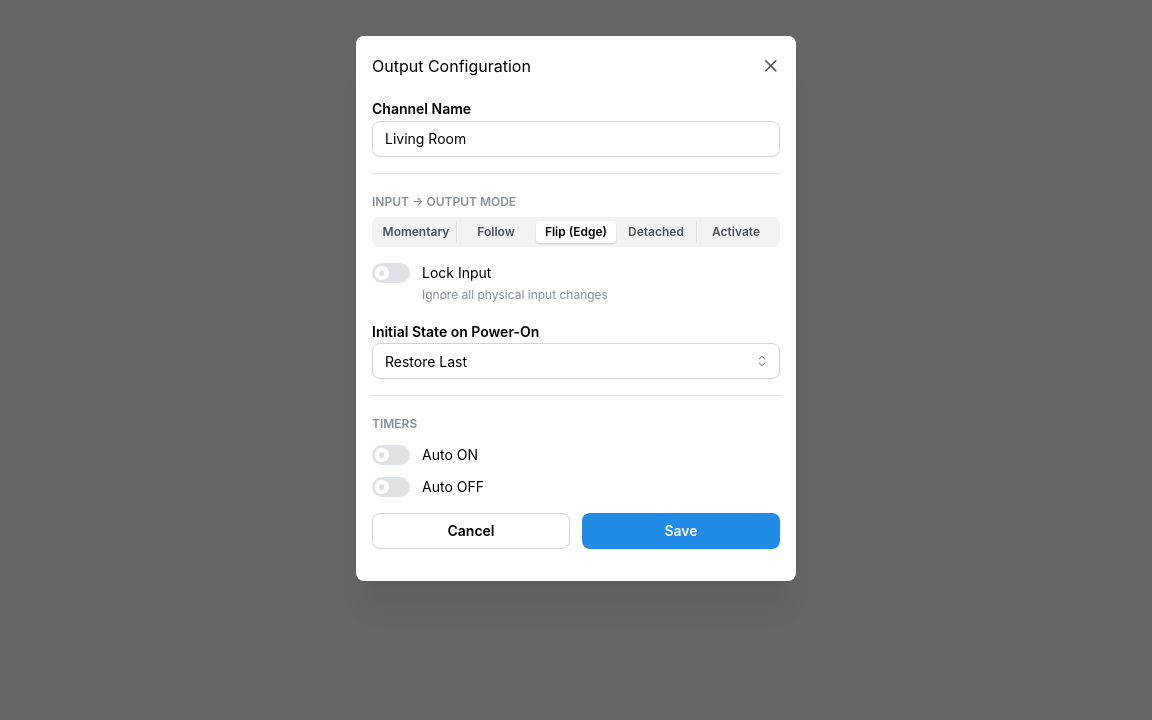
Test: SwitchConfigPanel › shows yellow restart alert when mutation returns restart_required: true
Step 1. Click the button "Save" → x=681, y=531, box [582, 513, 780, 549]
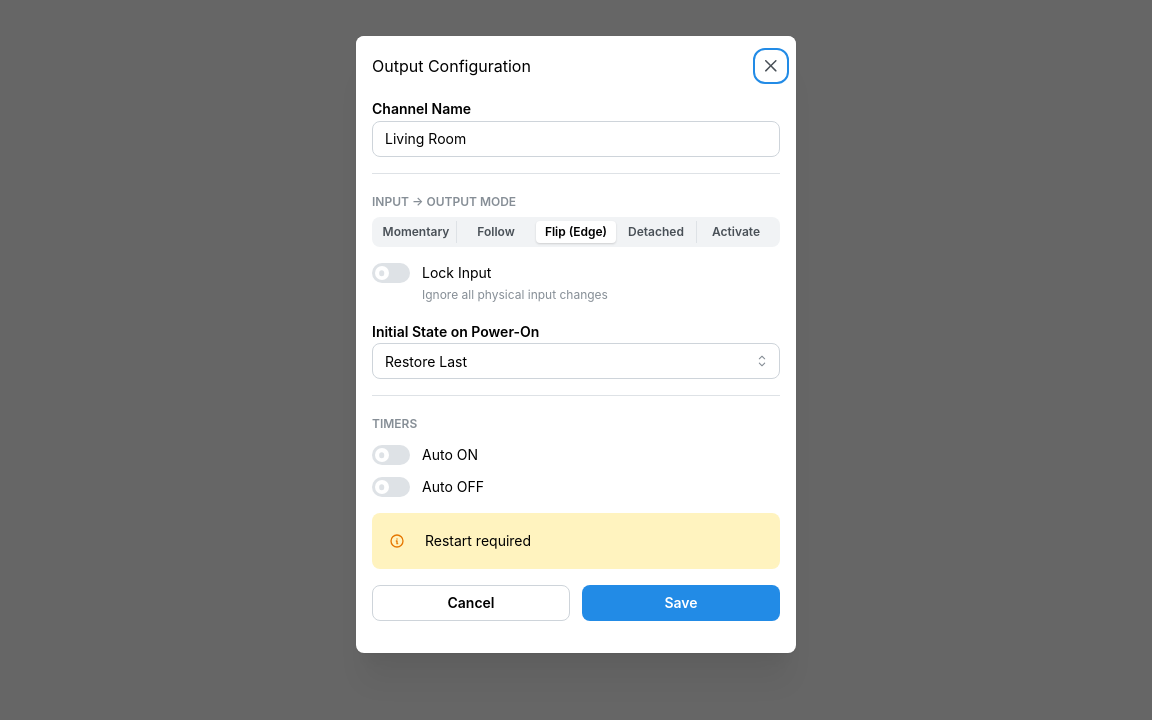
Result: the text "Restart required" is shown at [425, 532, 531, 549]
